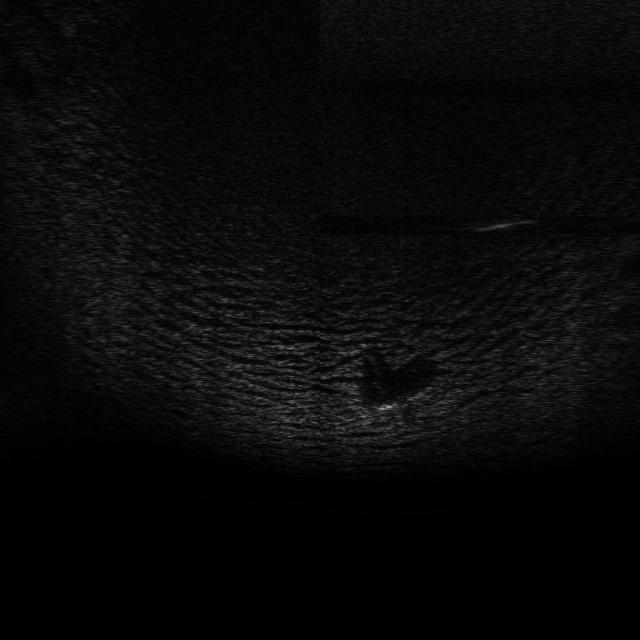plane: (351, 392, 432, 424)
